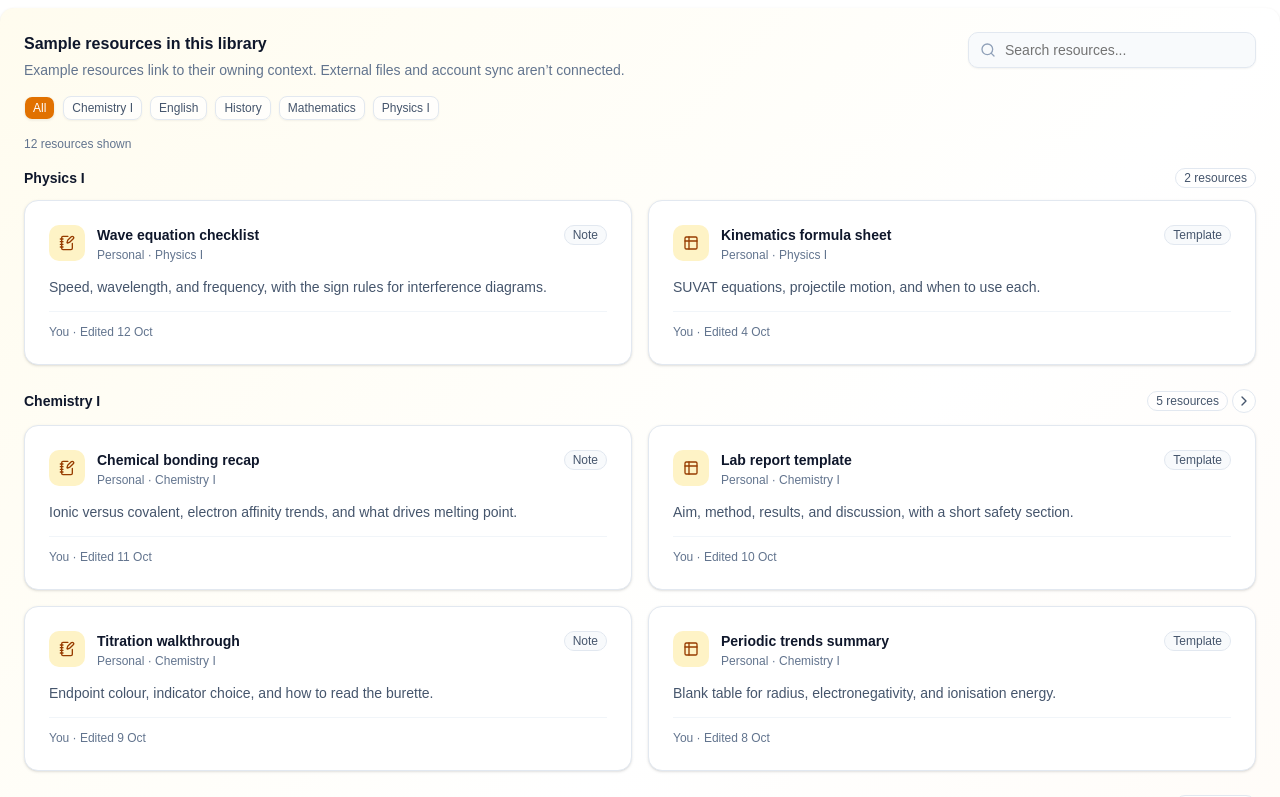
student Study Library › jumps to a subject category from the show more arrow
This screenshot has width=1280, height=797.
(page scrolled)
Click the button named "Show all Chemistry I resources": (1244, 400) [1232,388,1256,412]
(page scrolled)
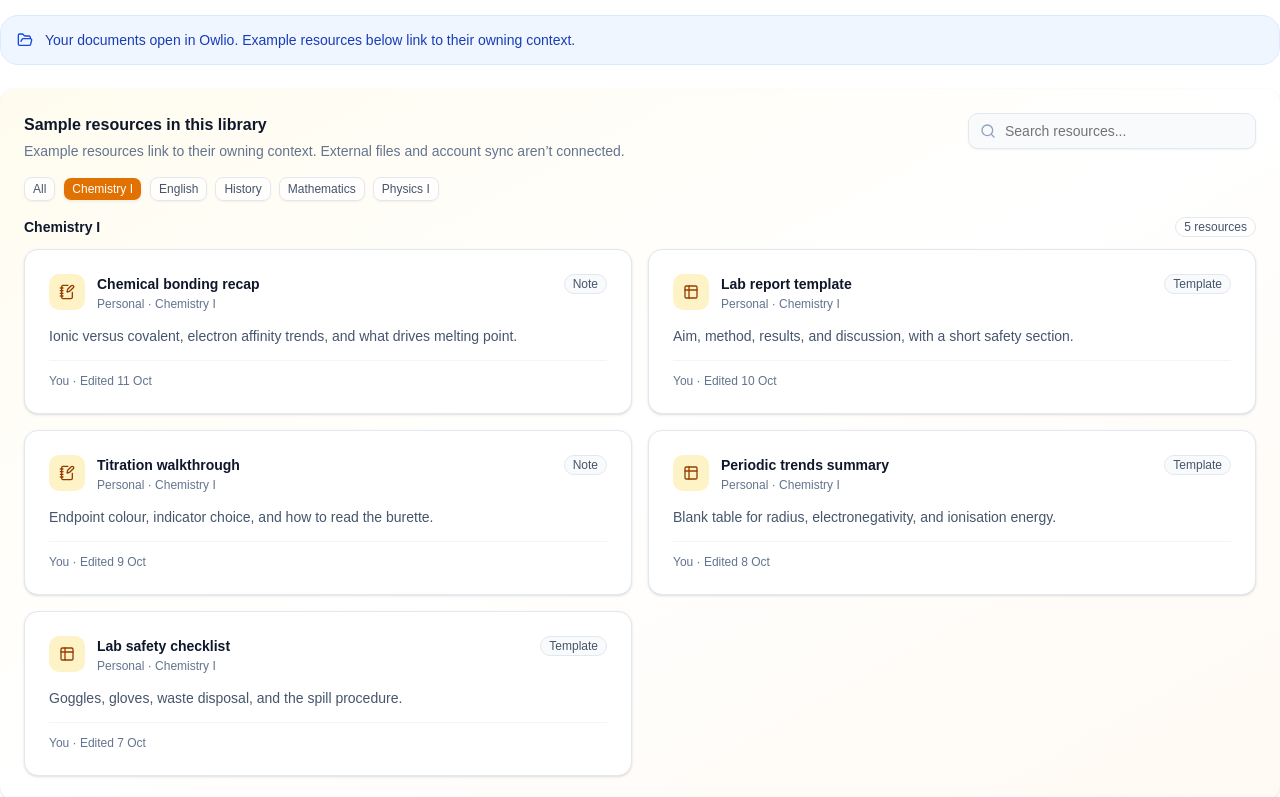
Expected: the link "Chemical bonding recap" is shown, [97,276,260,292]
Result: the link "Wave equation checklist" is gone
